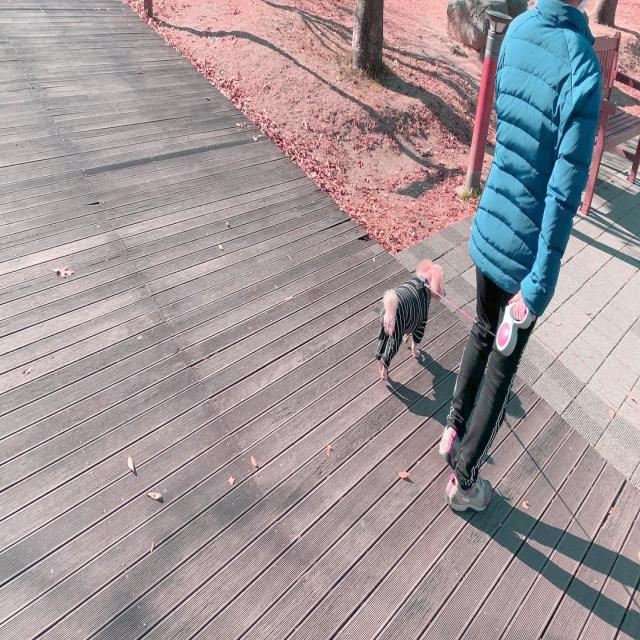Leashed_Dog: (375, 252, 494, 383)
